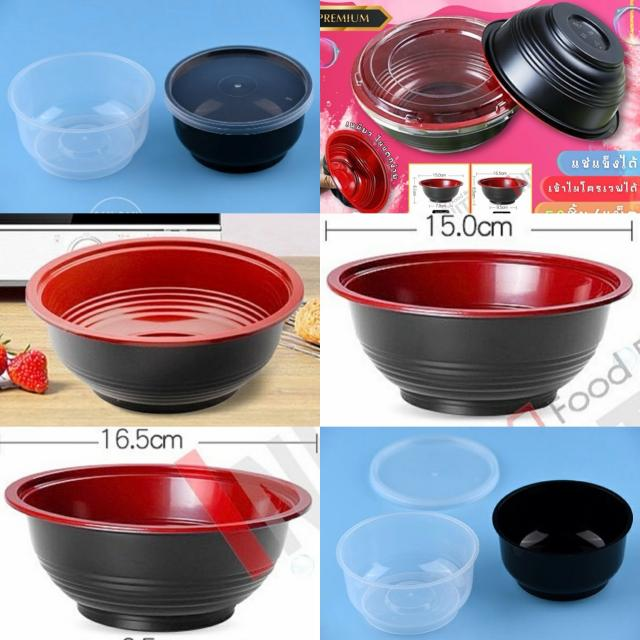plastik: (5, 465, 311, 631), (328, 250, 632, 416), (26, 238, 304, 412), (352, 16, 517, 152), (482, 2, 625, 139), (164, 46, 313, 173), (8, 52, 155, 179), (337, 511, 479, 634), (493, 480, 633, 600), (369, 435, 499, 508), (325, 130, 389, 212)
